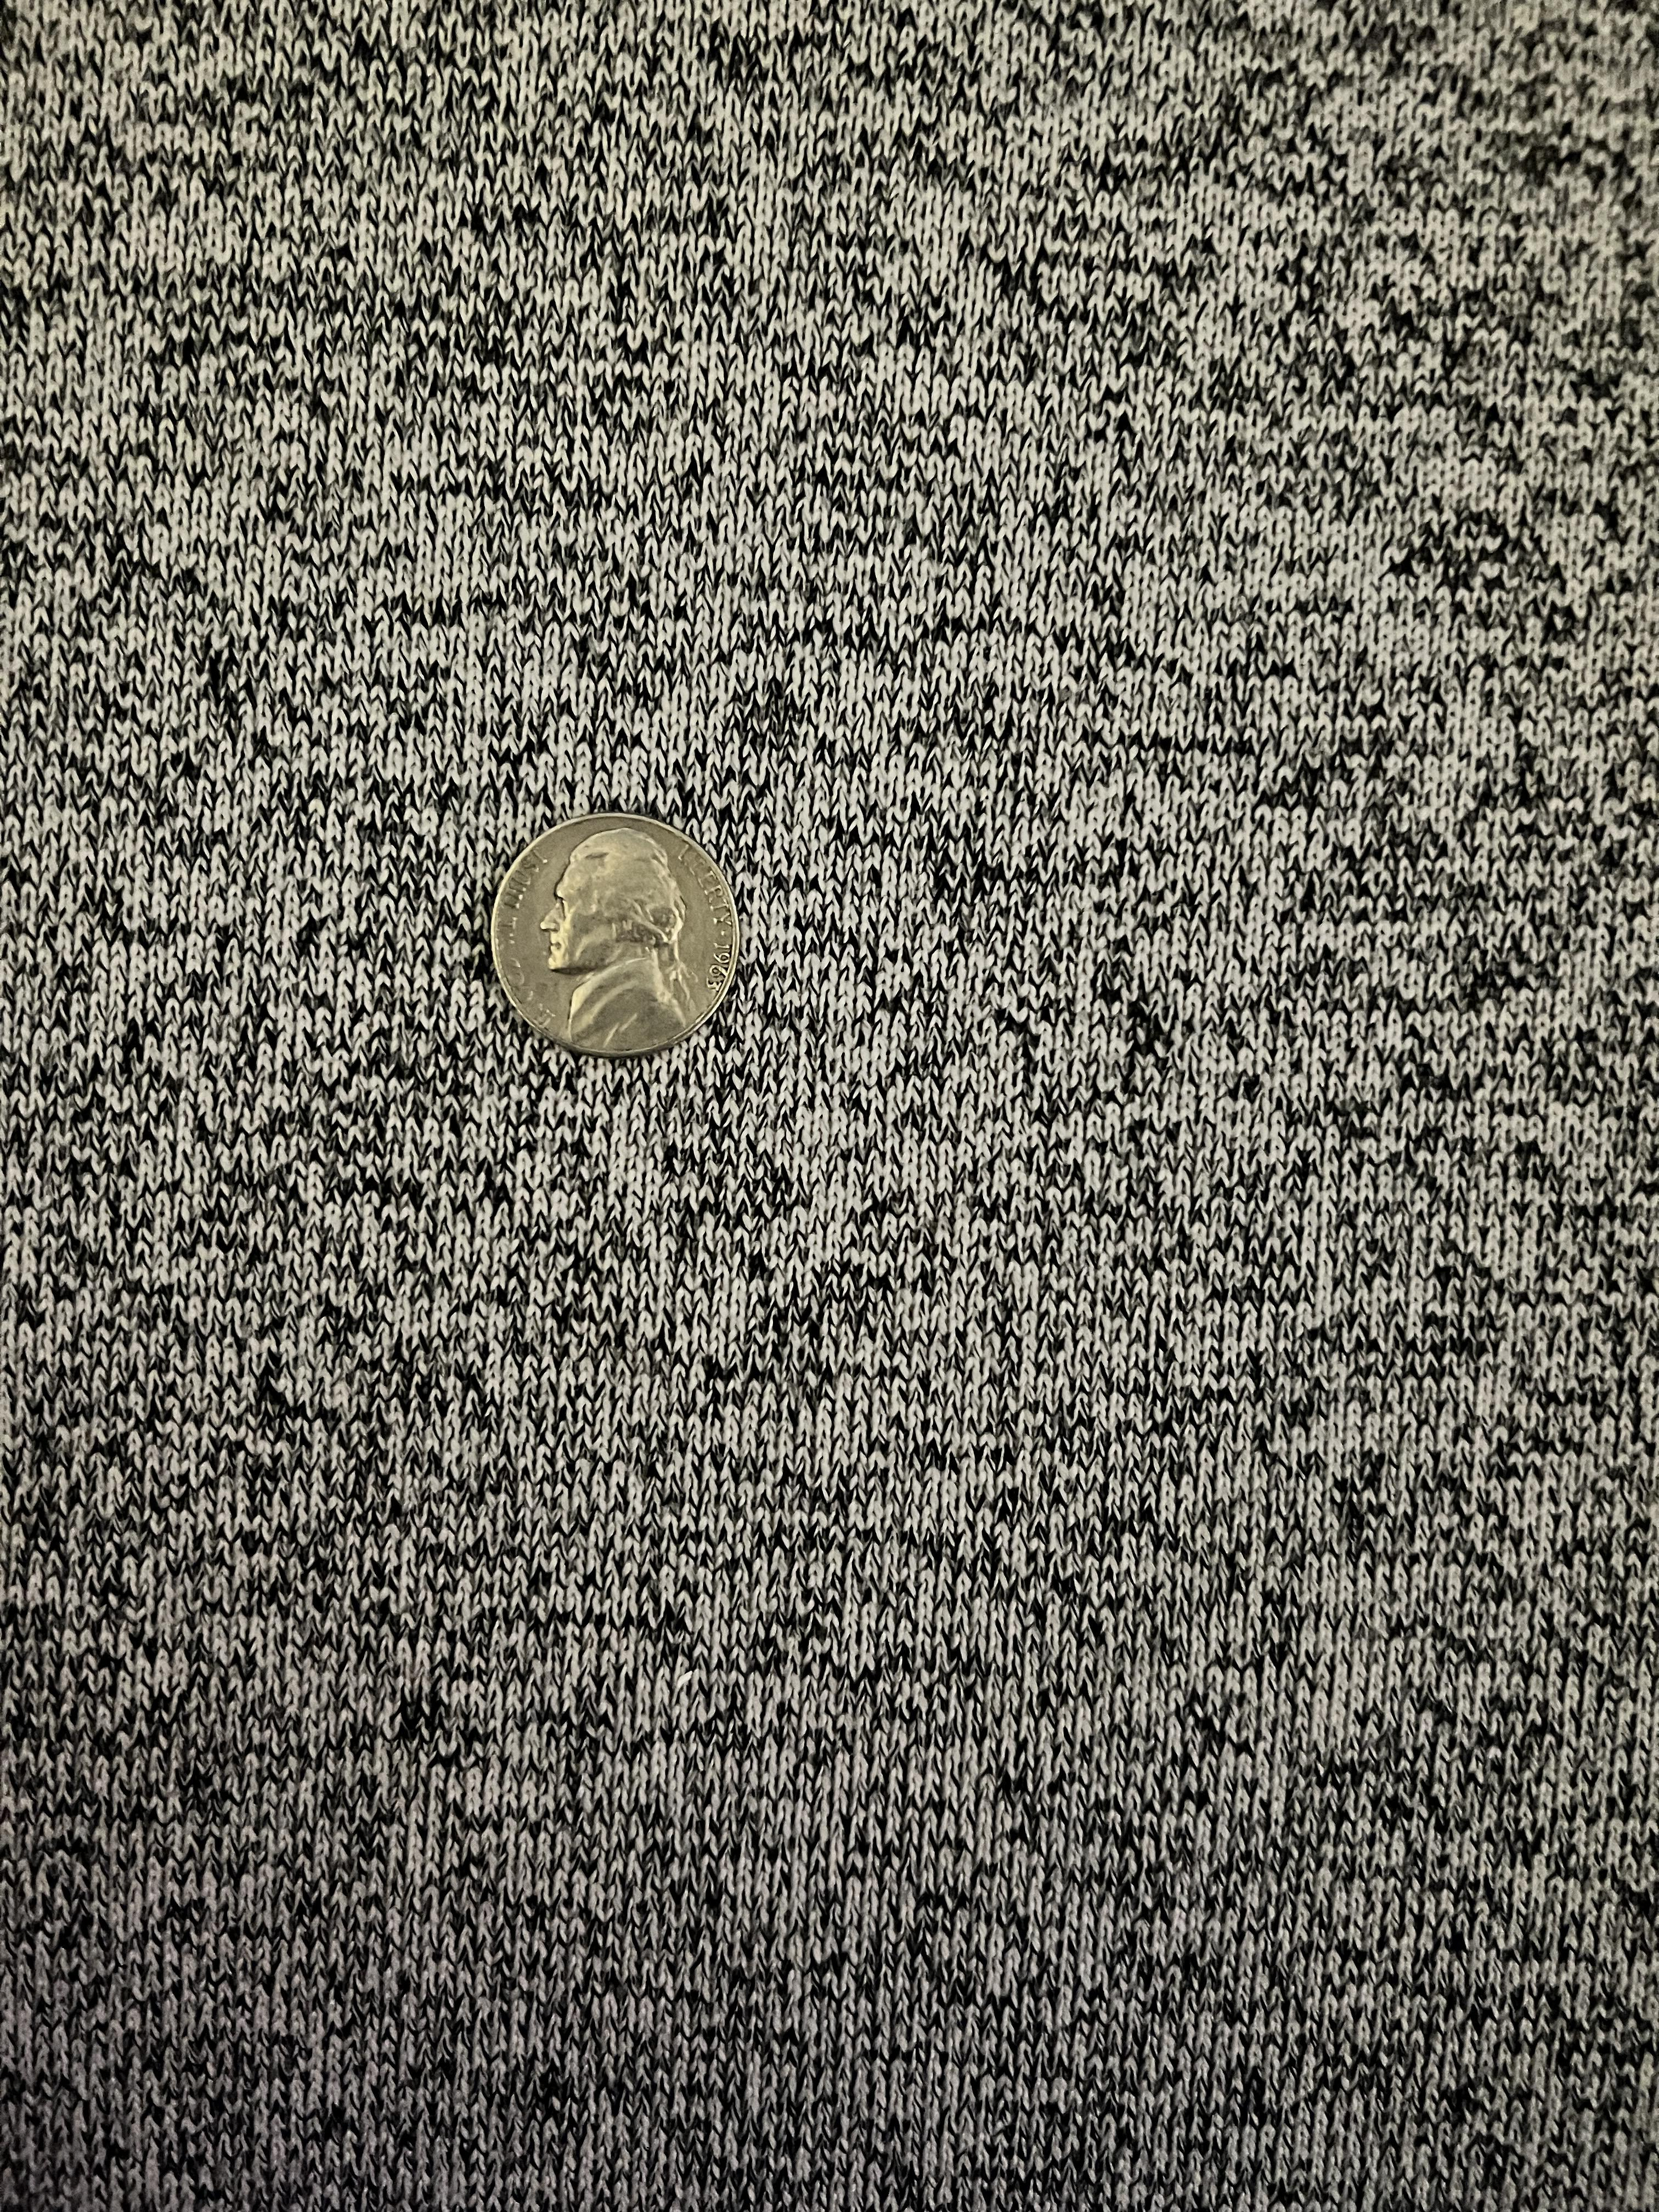Nickel: (471, 810, 744, 1062)
